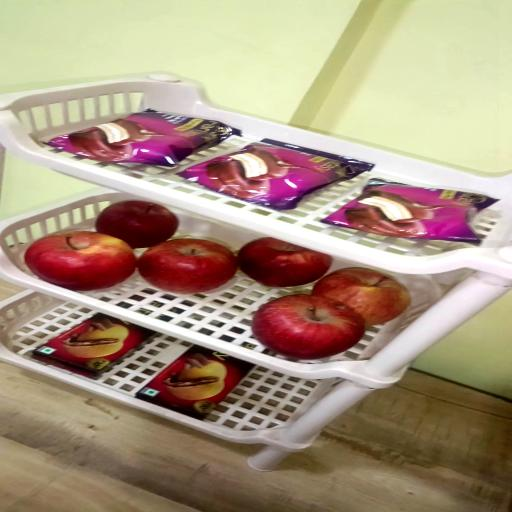Apple: (253, 296, 366, 360), (25, 233, 136, 292), (312, 269, 411, 326), (140, 240, 240, 296), (240, 239, 334, 288), (94, 202, 178, 251)
Choco Fills: (138, 345, 256, 419), (31, 314, 155, 379)
Choco Pie: (180, 141, 374, 213), (42, 108, 240, 166), (321, 182, 496, 244)
